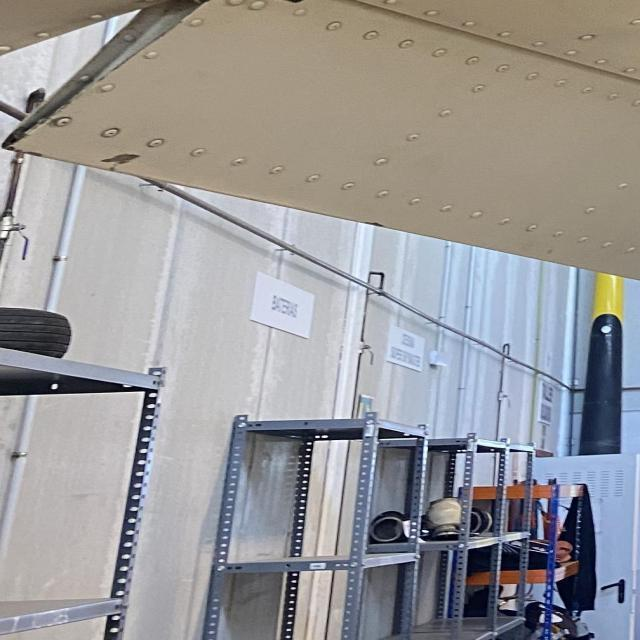Paint-off: (101, 152, 139, 167), (3, 145, 45, 158), (363, 222, 386, 228), (3, 150, 3, 150)
